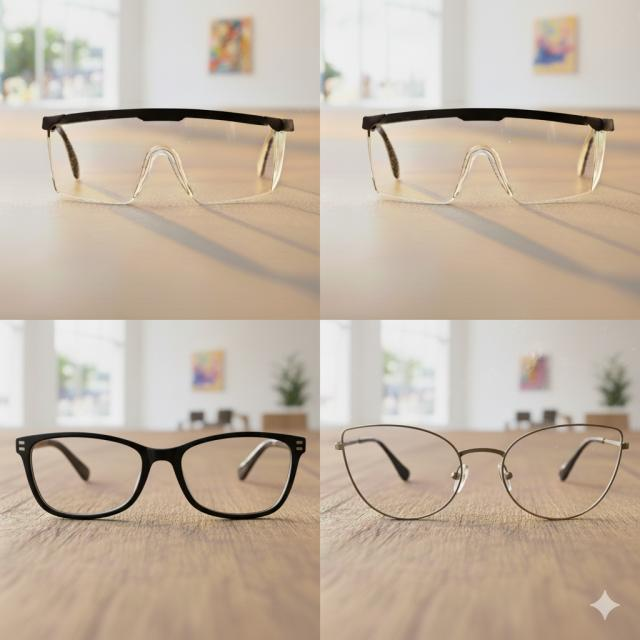oculos-epi: (354, 106, 628, 214), (33, 106, 301, 216)
sem_oculos: (335, 425, 628, 520), (16, 432, 305, 519)
